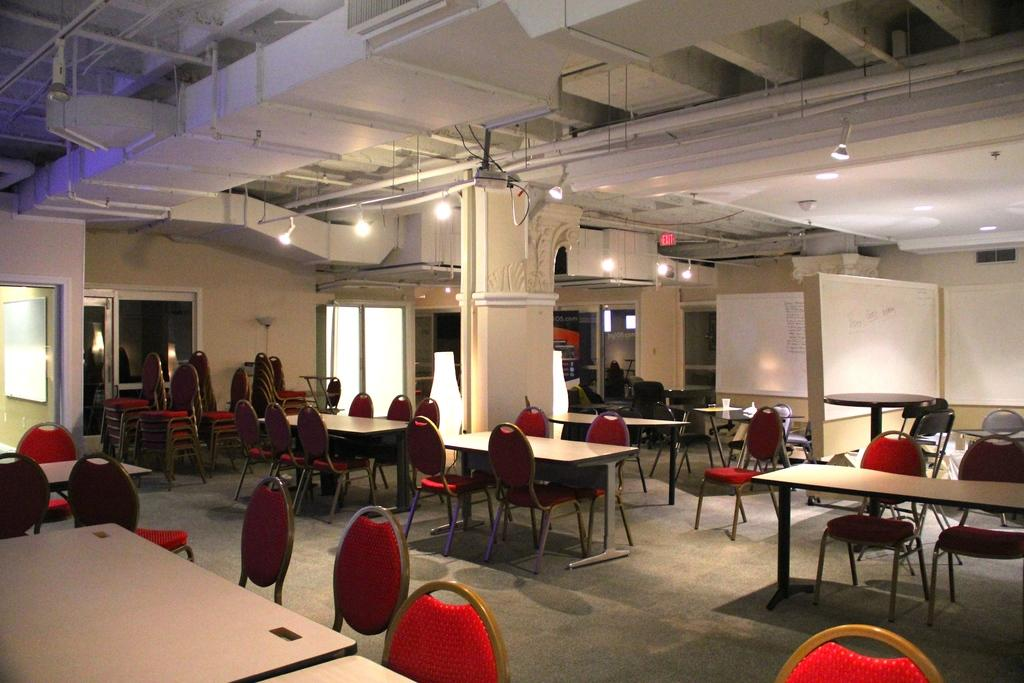Chair: (99, 348, 339, 491), (807, 432, 929, 625), (928, 438, 1023, 627), (856, 413, 962, 580), (65, 449, 201, 568), (399, 418, 503, 561), (326, 502, 415, 668), (378, 577, 513, 682), (692, 407, 788, 547), (546, 413, 632, 550), (470, 402, 553, 540), (765, 625, 943, 682), (293, 403, 374, 516), (235, 475, 300, 609), (373, 398, 447, 498), (17, 419, 83, 531), (348, 395, 415, 494), (257, 404, 318, 507), (226, 397, 287, 498), (0, 448, 54, 547), (638, 398, 688, 489), (333, 388, 374, 482), (894, 390, 954, 448)
